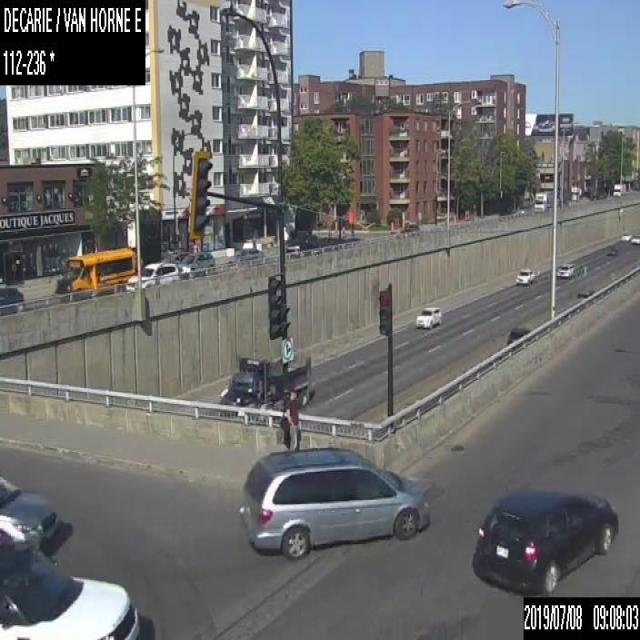bus: (56, 247, 138, 293)
pedestrian: (285, 392, 299, 449)
vehicle: (238, 444, 430, 559), (471, 489, 618, 596), (0, 540, 140, 639), (218, 353, 311, 412), (0, 473, 56, 551), (126, 261, 178, 292), (178, 252, 215, 278), (285, 231, 320, 253), (564, 287, 594, 309), (415, 306, 441, 328), (232, 246, 261, 262), (505, 327, 530, 345), (0, 284, 23, 303), (533, 190, 552, 211), (515, 267, 535, 284), (397, 222, 418, 235), (514, 201, 532, 215), (556, 263, 574, 277), (612, 183, 625, 196), (620, 230, 631, 241), (605, 244, 616, 254), (630, 234, 639, 244)
